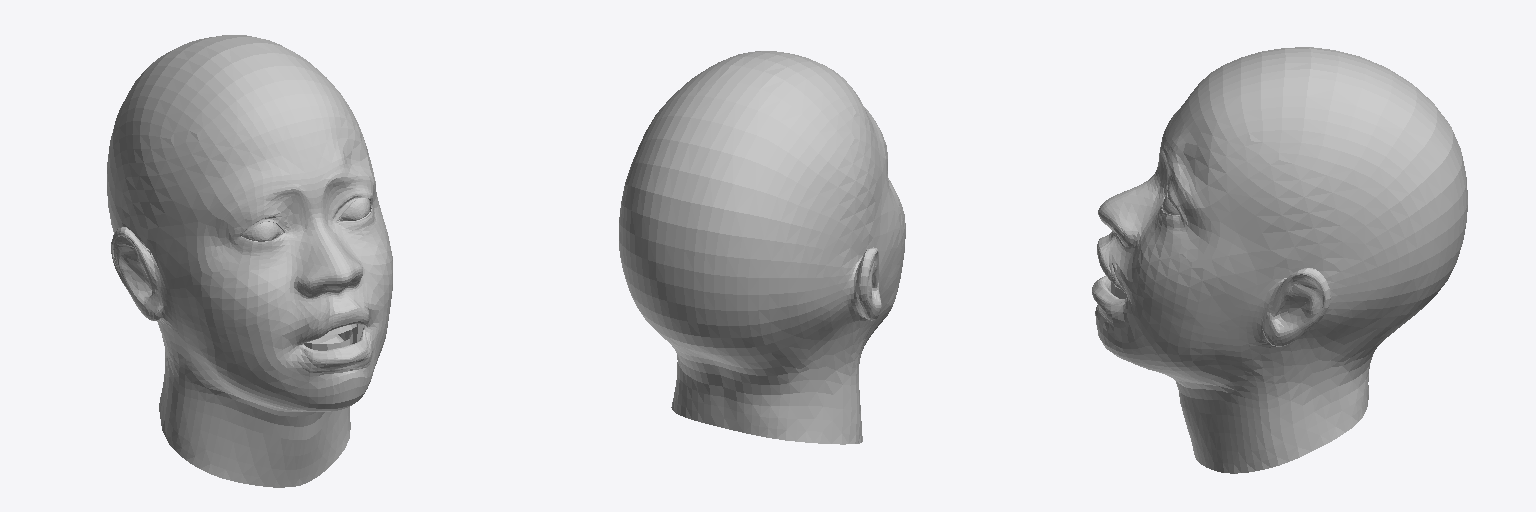
File: Jane_hi_all_ExpressionFear.obj
The picture shows the model from 3 angles: view 1: azimuth 30°, elevation 25°; view 2: azimuth 150°, elevation 25°; view 3: azimuth 270°, elevation 25°; orthographic projection.
Parts seen in each view (by area): view 1: FaceGen; view 2: FaceGen; view 3: FaceGen.
Part boxes in pixels (x1,y1,x2,y2): FaceGen: (107, 35, 392, 487); FaceGen: (619, 51, 905, 444); FaceGen: (1092, 47, 1467, 473).
Bounding box in the file's own units: 181 × 281 × 241.